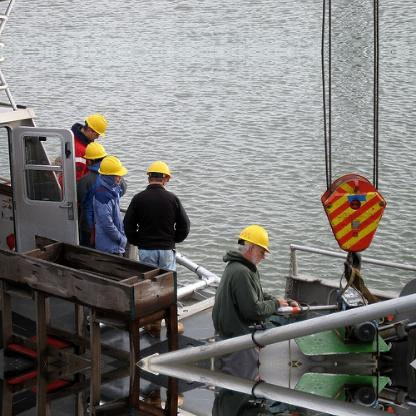Safety Helmet: (228, 218, 275, 278), (139, 151, 178, 197), (94, 153, 132, 200), (74, 109, 112, 144), (81, 141, 109, 173)
